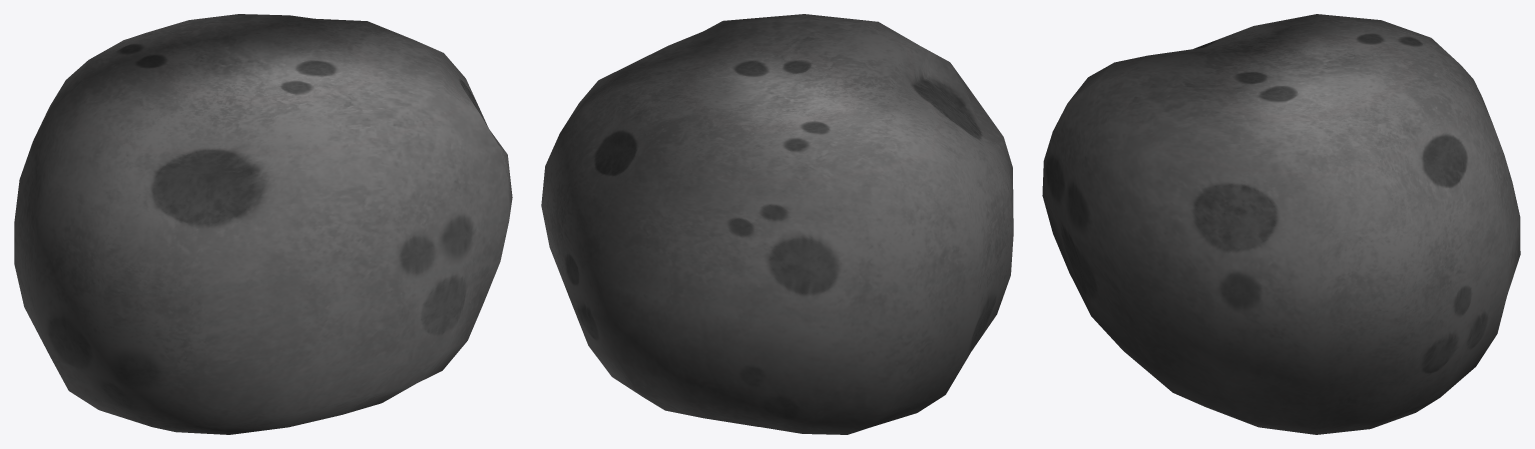
The model's file is AsteroidSmall.fbx.
3 renders of one model, left to right at view 1: azimuth 30°, elevation 25°; view 2: azimuth 150°, elevation 25°; view 3: azimuth 270°, elevation 25°, orthographic. The views are drawn at different scales.
Parts seen in each view (by area): view 1: AsteroidSmall; view 2: AsteroidSmall; view 3: AsteroidSmall.
Part boxes in pixels (left/top/right/bottom): AsteroidSmall: left=14, top=14, right=512, bottom=434; AsteroidSmall: left=541, top=14, right=1013, bottom=434; AsteroidSmall: left=1042, top=14, right=1520, bottom=434.
Size of the model in its own units: 45.83 by 33.16 by 44.75.
